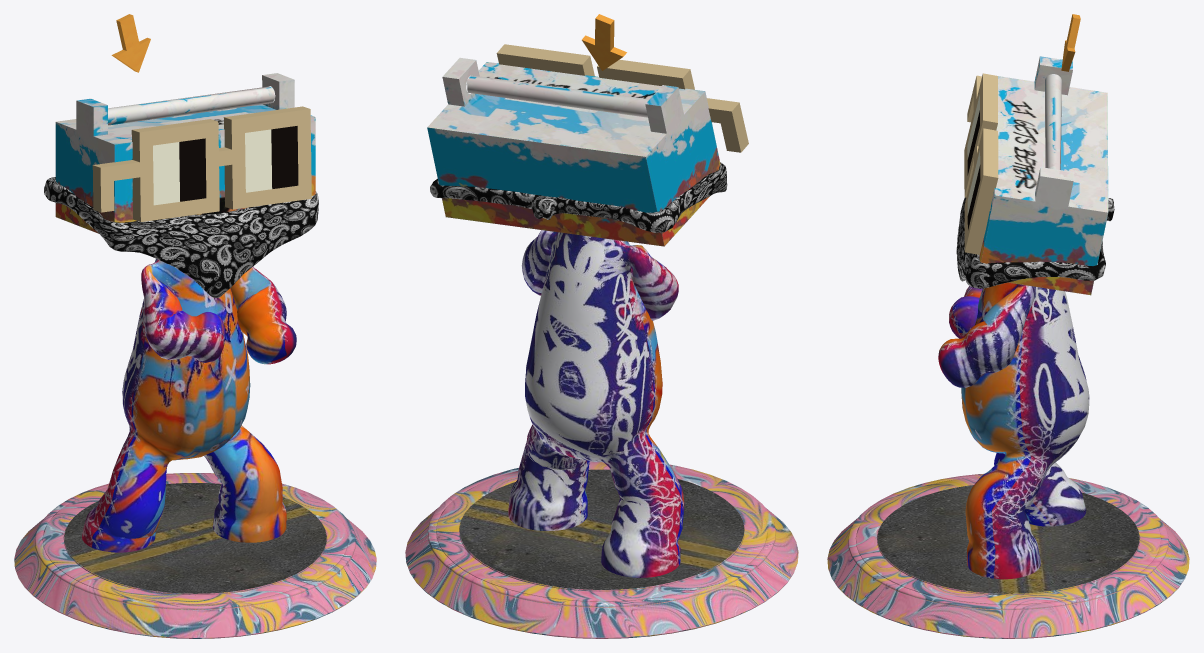
3 views of the same model, side by side, from view 1: azimuth 30°, elevation 25°; view 2: azimuth 150°, elevation 25°; view 3: azimuth 270°, elevation 25° (orthographic). The views are drawn at different scales.
Bounding box in the file's own units: 1.45 × 2.34 × 1.45.
7 materials, 7 textured.
